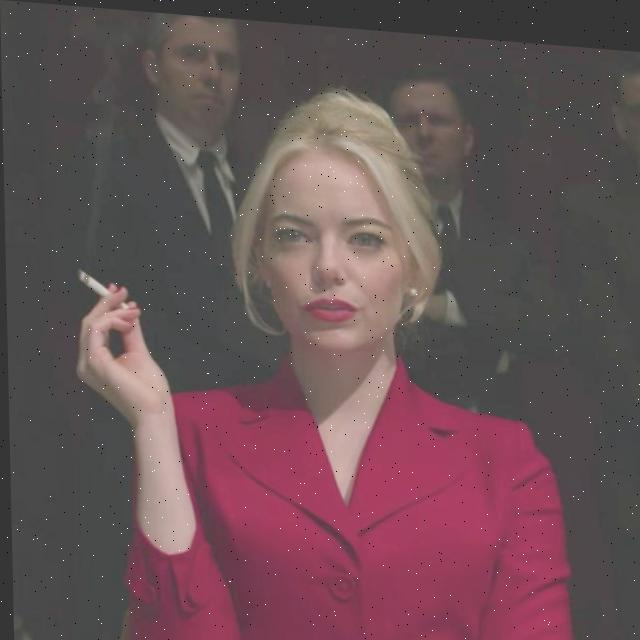cigarette: (78, 268, 130, 311)
